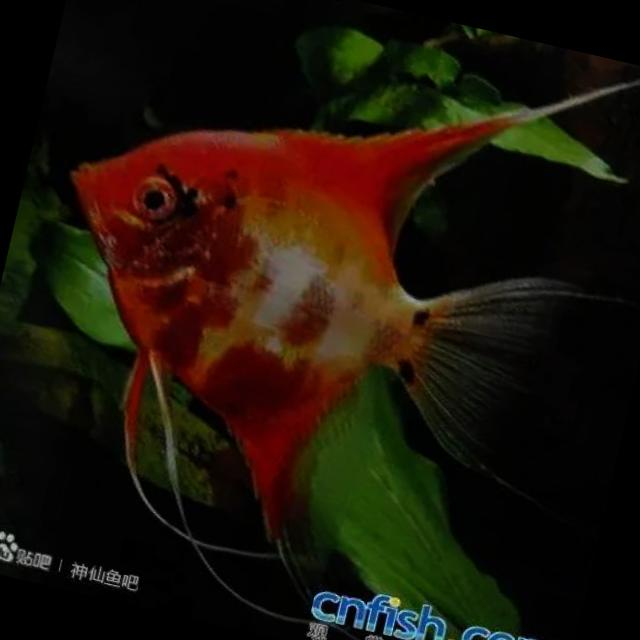AngelFish: (0, 0, 615, 590)
